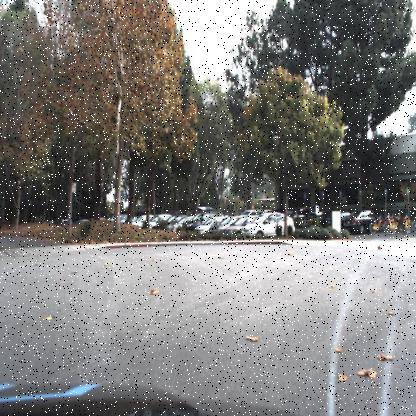car: (240, 212, 294, 238), (342, 208, 384, 236), (223, 212, 260, 242), (195, 216, 235, 242)
